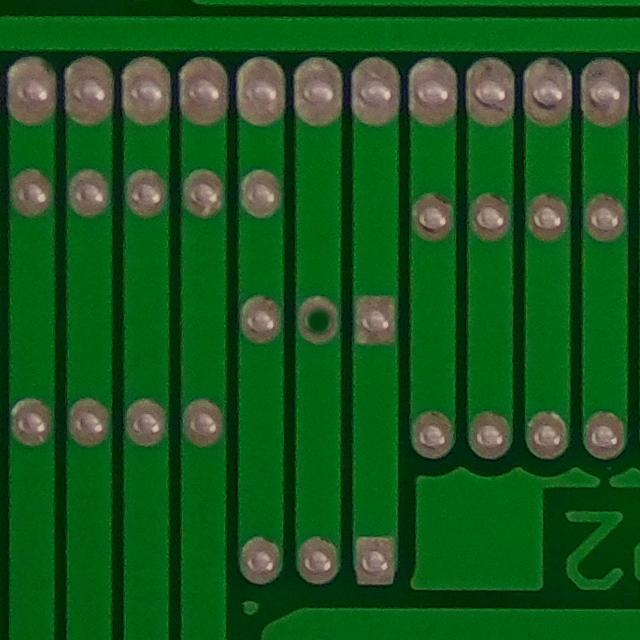missing_hole: (292, 289, 349, 351)
